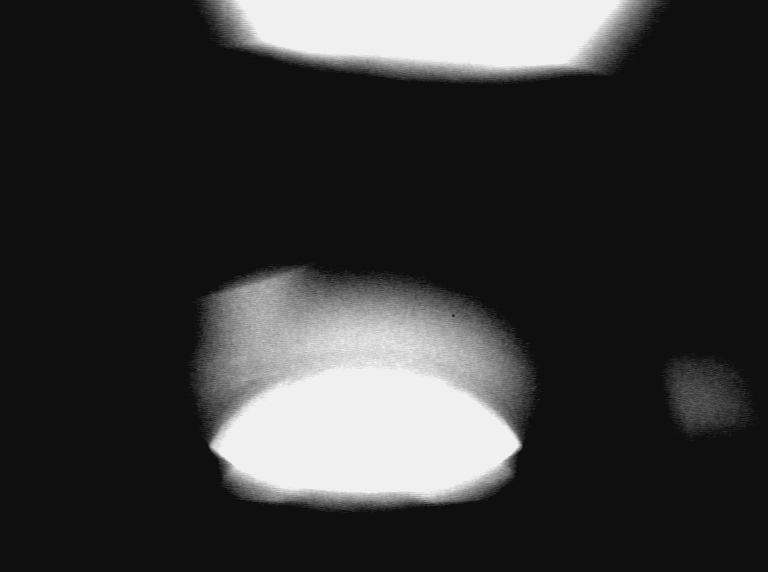defect: (194, 254, 308, 429)
